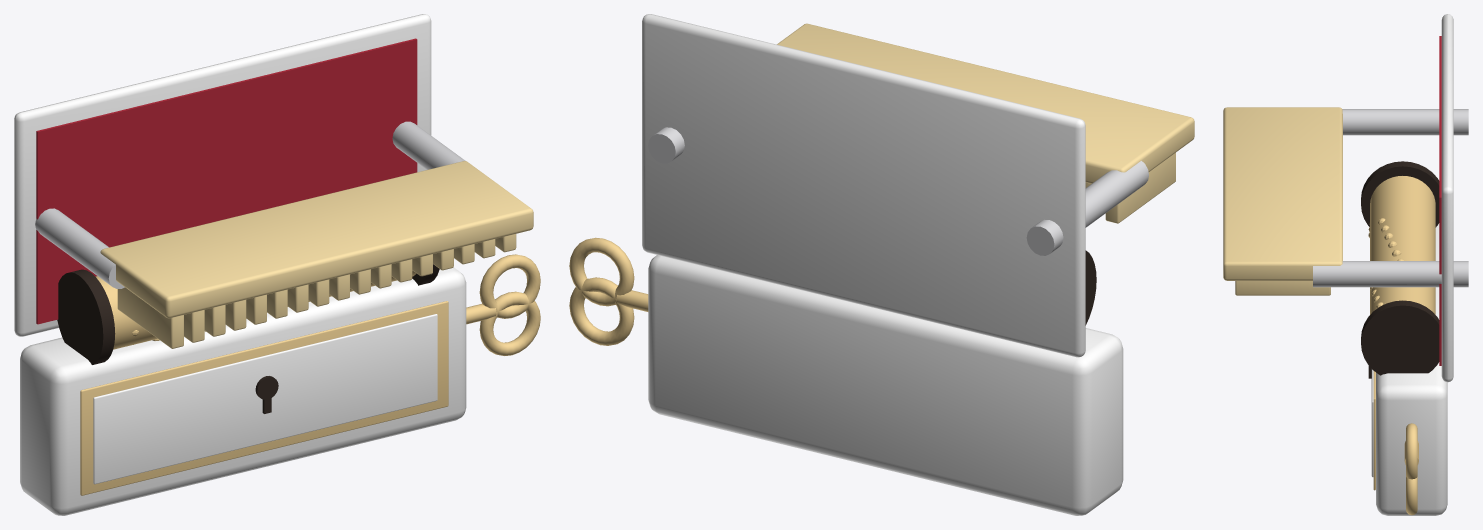
3 views of the same model, side by side, from view 1: azimuth 30°, elevation 25°; view 2: azimuth 150°, elevation 25°; view 3: azimuth 270°, elevation 25° (orthographic). The views are drawn at different scales.
Parts seen in each view (by area): view 1: music_box_default; view 2: music_box_default; view 3: music_box_default.
Boxes of the visible parts, x1,y1,x2,y2 form: music_box_default: (14, 14, 540, 515); music_box_default: (569, 14, 1194, 515); music_box_default: (1223, 14, 1468, 515).
Size of the model in its own units: 0.85 by 0.61 by 0.41.
